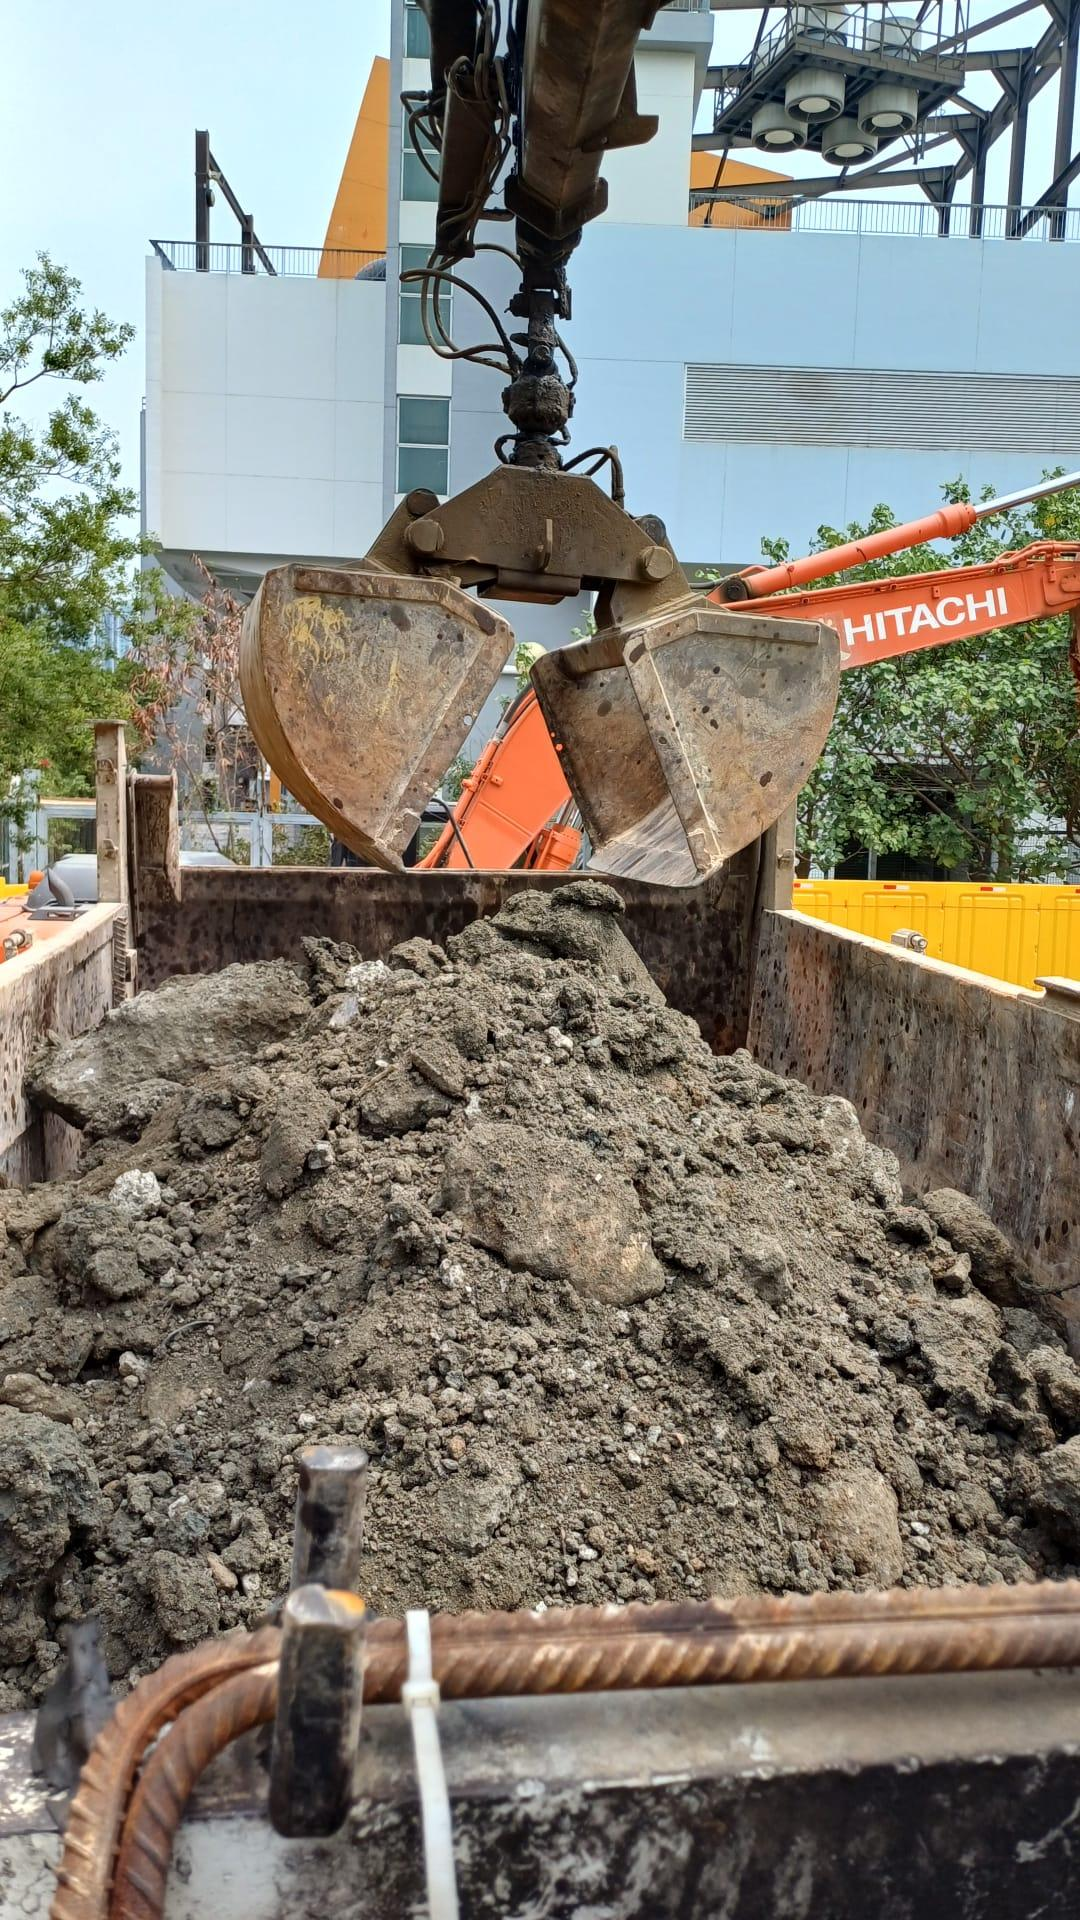dirt: (1, 877, 1077, 1712)
stone: (22, 953, 315, 1138), (439, 1118, 665, 1307)
